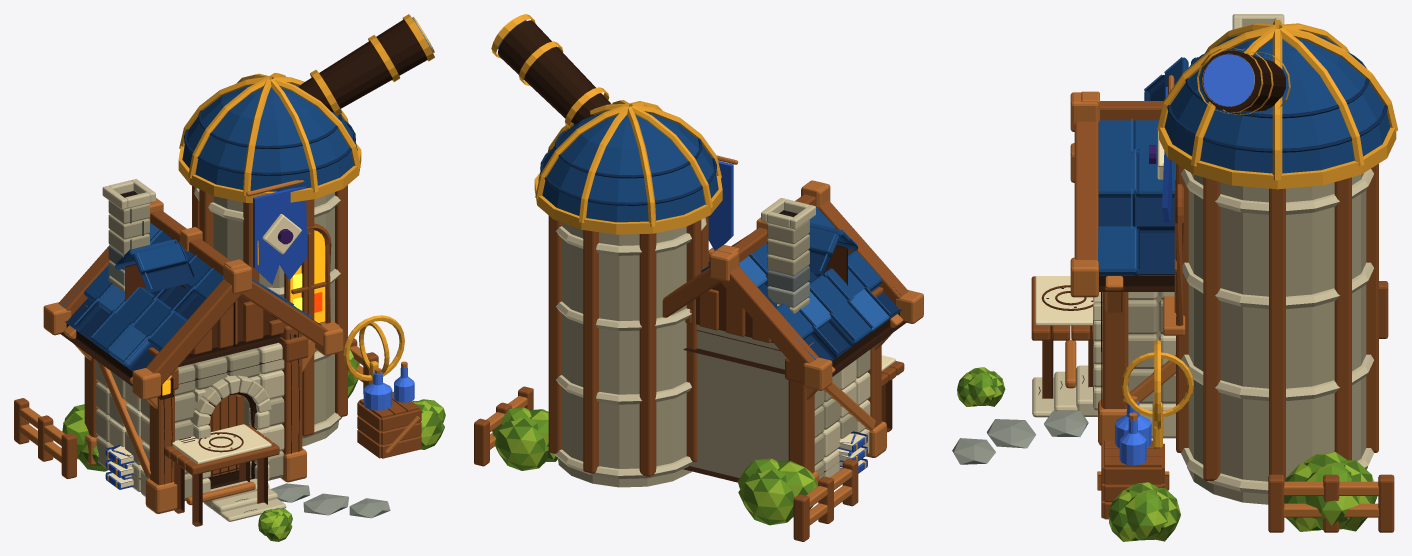
File: research_tower.glb
The picture shows the model from 3 angles, left to right: view 1: azimuth 30°, elevation 25°; view 2: azimuth 150°, elevation 25°; view 3: azimuth 270°, elevation 25°; orthographic projection. The views are drawn at different scales.
Parts seen in each view (by area): view 1: Blue observatory dome, Telescope dark barrel, Observatory round limestone walls, Cloth heraldic banner, Carved roof verge, Round tower timber upright.007, Observatory parchment, Corner upright, Dome eave brass collar, Corner upright.002, Round tower timber upright.006, Carved roof verge.002 (+64 smaller); view 2: Observatory round limestone walls, Blue observatory dome, Cottage walls, Telescope dark barrel, Round tower timber upright.003, Round tower timber upright.002, Round tower timber upright.001, Carved roof verge.001, Dome eave brass collar, Round tower timber upright.004, Leaf cluster.007, Corner upright.001 (+46 smaller); view 3: Observatory round limestone walls, Blue observatory dome, Round tower timber upright.007, Round tower timber upright.001, Round tower timber upright, Dome eave brass collar, Carved roof verge.002, Round tower timber upright.002, Corner upright.002, Observatory parchment, Blue telescope lens, Round tower timber upright.006 (+59 smaller).
Boxes of the visible parts, x1=… form: Blue observatory dome: x1=182, y1=83, x2=357, y2=191; Telescope dark barrel: x1=299, y1=19, x2=427, y2=112; Observatory round limestone walls: x1=213, y1=192, x2=338, y2=446; Cloth heraldic banner: x1=253, y1=186, x2=307, y2=284; Carved roof verge: x1=145, y1=279, x2=242, y2=385; Round tower timber upright.007: x1=335, y1=185, x2=347, y2=416; Observatory parchment: x1=172, y1=424, x2=271, y2=464; Corner upright: x1=149, y1=354, x2=174, y2=485; Dome eave brass collar: x1=178, y1=143, x2=361, y2=202; Corner upright.002: x1=280, y1=326, x2=302, y2=454; Round tower timber upright.006: x1=301, y1=199, x2=314, y2=436; Carved roof verge.002: x1=241, y1=280, x2=328, y2=347; Observatory round limestone walls: x1=557, y1=222, x2=691, y2=487; Blue observatory dome: x1=538, y1=111, x2=718, y2=222; Cottage walls: x1=689, y1=324, x2=788, y2=477; Telescope dark barrel: x1=497, y1=20, x2=611, y2=124; Round tower timber upright.003: x1=639, y1=233, x2=656, y2=476; Round tower timber upright.002: x1=583, y1=230, x2=598, y2=473; Round tower timber upright.001: x1=548, y1=215, x2=561, y2=453; Carved roof verge.001: x1=719, y1=266, x2=818, y2=375; Dome eave brass collar: x1=534, y1=173, x2=722, y2=234; Round tower timber upright.004: x1=686, y1=220, x2=701, y2=461; Leaf cluster.007: x1=738, y1=469, x2=794, y2=525; Corner upright.001: x1=788, y1=342, x2=814, y2=473; Observatory round limestone walls: x1=1187, y1=173, x2=1367, y2=504; Blue observatory dome: x1=1164, y1=34, x2=1390, y2=173; Round tower timber upright.007: x1=1203, y1=177, x2=1220, y2=480; Round tower timber upright.001: x1=1334, y1=177, x2=1351, y2=460; Round tower timber upright: x1=1269, y1=188, x2=1285, y2=481; Dome eave brass collar: x1=1159, y1=127, x2=1396, y2=189; Carved roof verge.002: x1=1074, y1=121, x2=1098, y2=260; Round tower timber upright.002: x1=1366, y1=164, x2=1378, y2=452; Corner upright.002: x1=1102, y1=292, x2=1128, y2=408; Observatory parchment: x1=1035, y1=276, x2=1093, y2=325; Blue telescope lens: x1=1203, y1=54, x2=1254, y2=106; Round tower timber upright.006: x1=1176, y1=163, x2=1188, y2=452.
Size of the model in its own units: 4.34 by 4.64 by 3.64.
